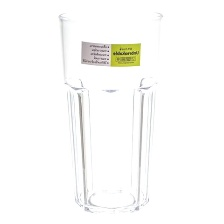glass: (54, 3, 171, 221)
